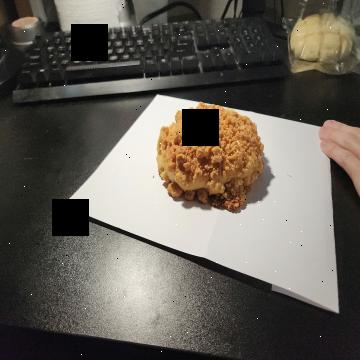soboru_bread: (157, 102, 268, 217)
